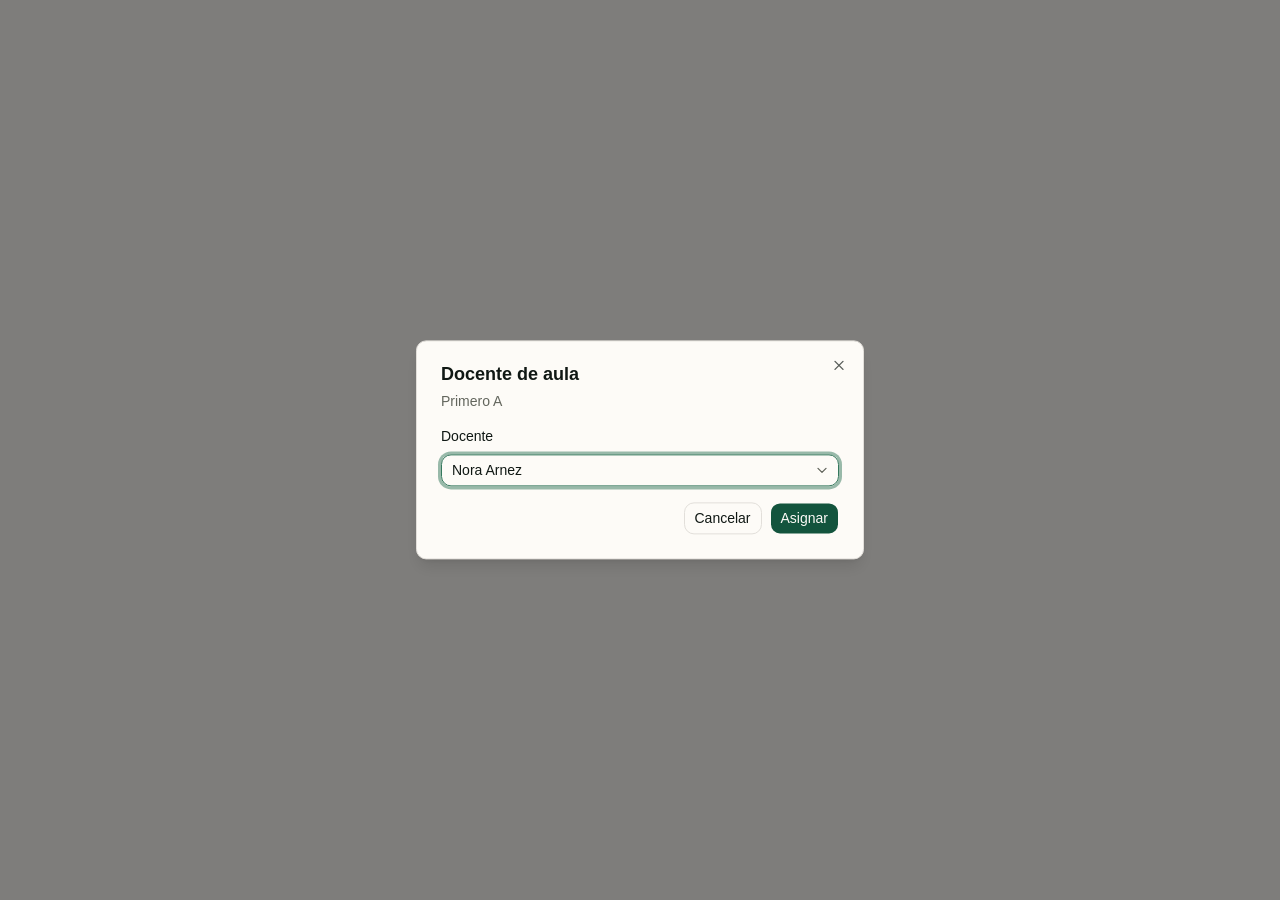
Scenario: SetHomeroomDialog, secretaría › no ofrece el intercambio: explica que es de Dirección y bloquea el botón
Click the dropdown at (487, 471), box [441,455,839,487]
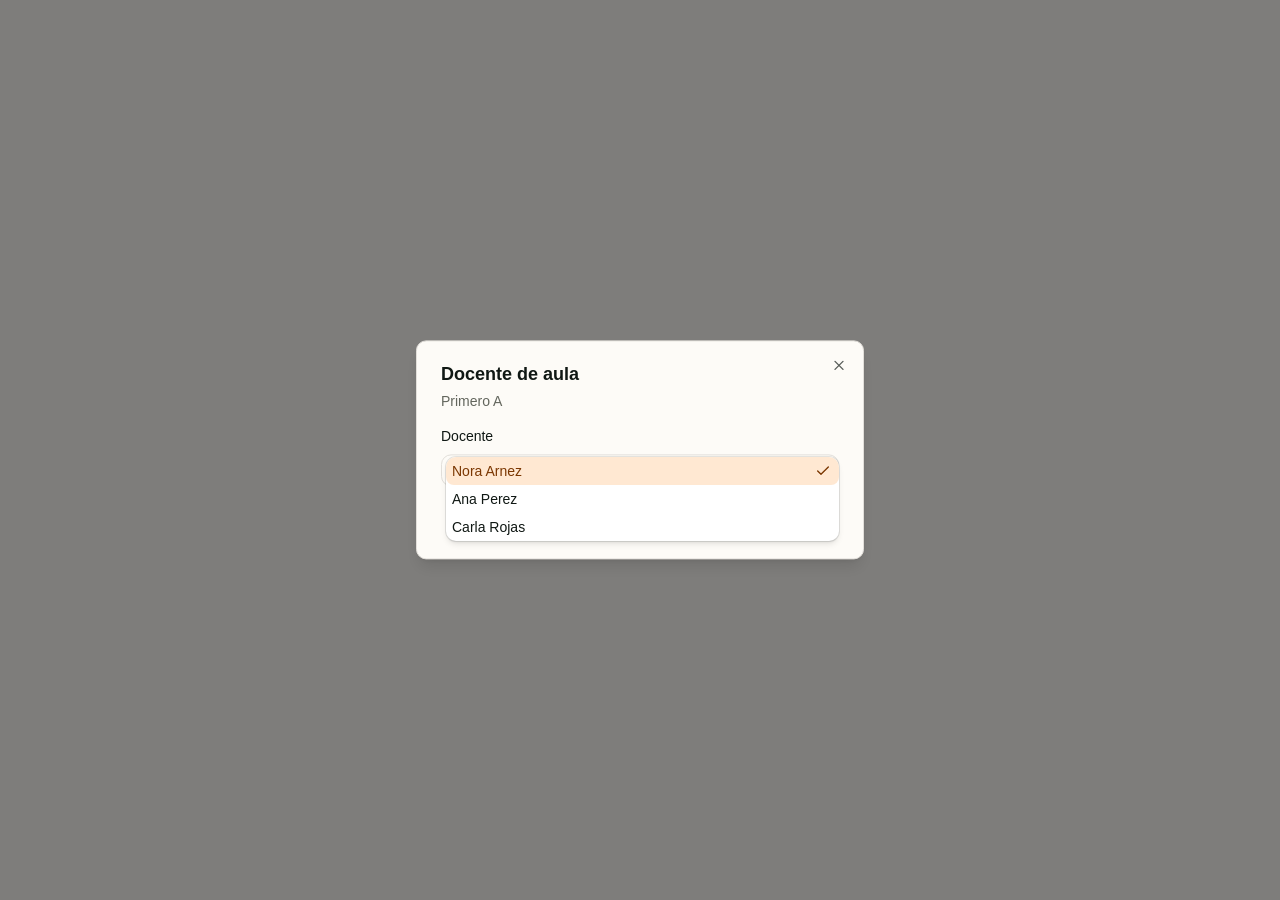
Click the option "Ana Perez" at (485, 499), box [452,491,517,507]
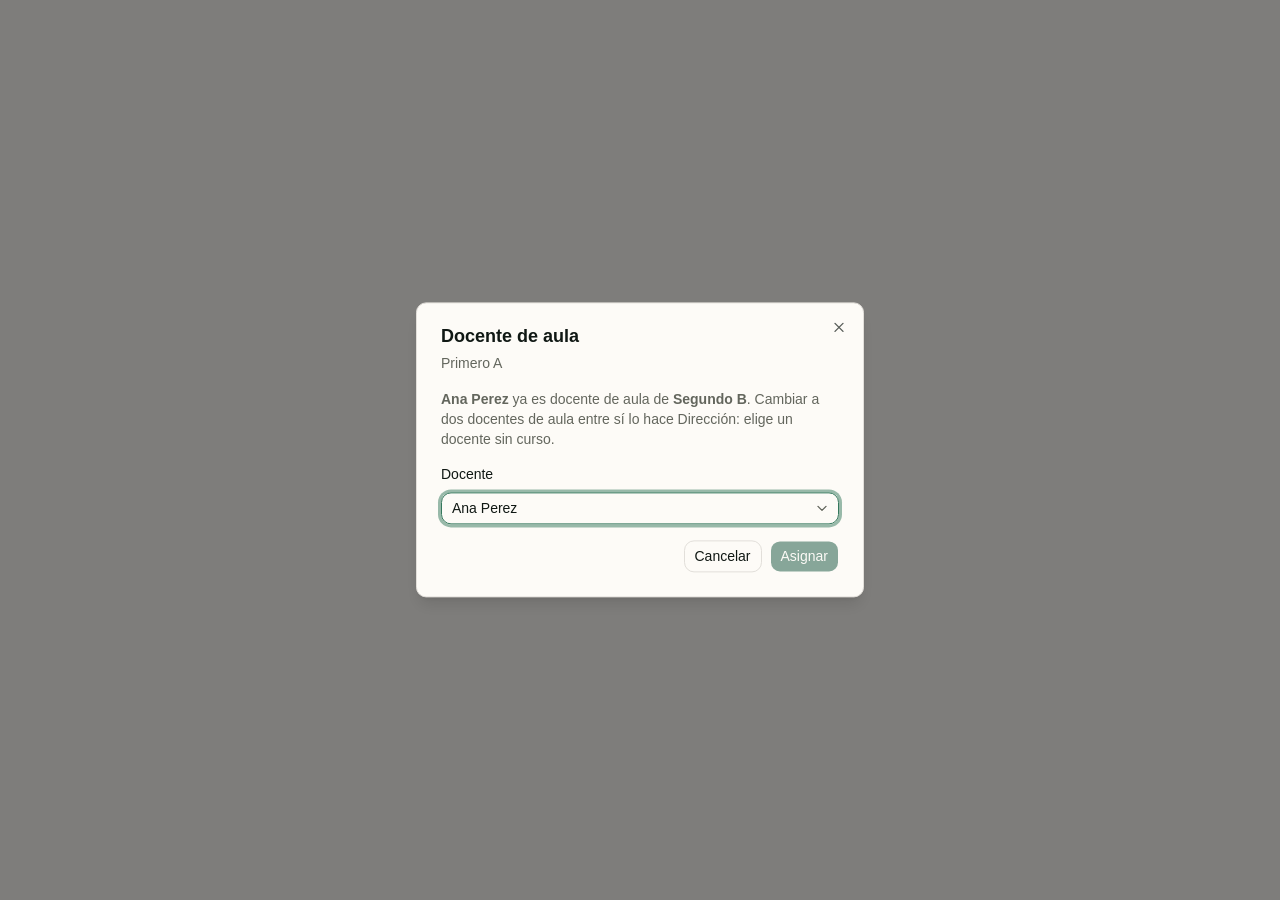
Now the text "lo hace Dirección" is shown, box [441,391,819,447]
Now the button "Asignar" is disabled, box [770,541,839,573]
